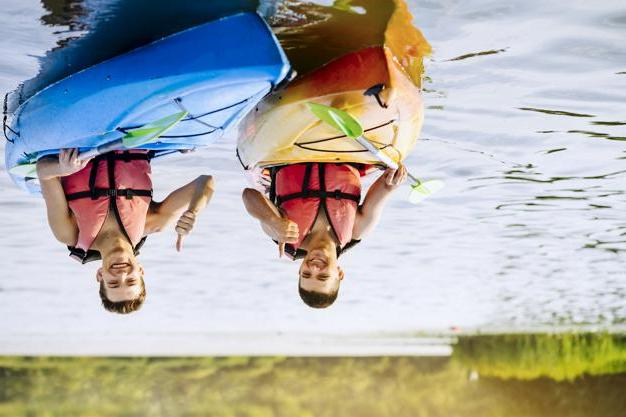thumbsdown: (175, 210, 197, 253), (278, 220, 299, 259)
